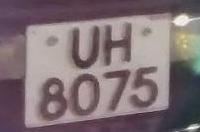0: (70, 70, 104, 118)
5: (129, 62, 162, 112)
7: (101, 64, 134, 117)
8: (35, 70, 70, 126)
H: (100, 16, 137, 73)
U: (64, 21, 105, 75)
